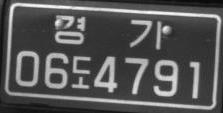0: (15, 49, 41, 87)
1: (184, 61, 205, 99)
4: (92, 55, 117, 93)
6: (43, 51, 69, 90)
7: (123, 56, 150, 96)
9: (153, 59, 179, 97)
경기_D: (55, 14, 162, 50)
도: (69, 54, 90, 90)
